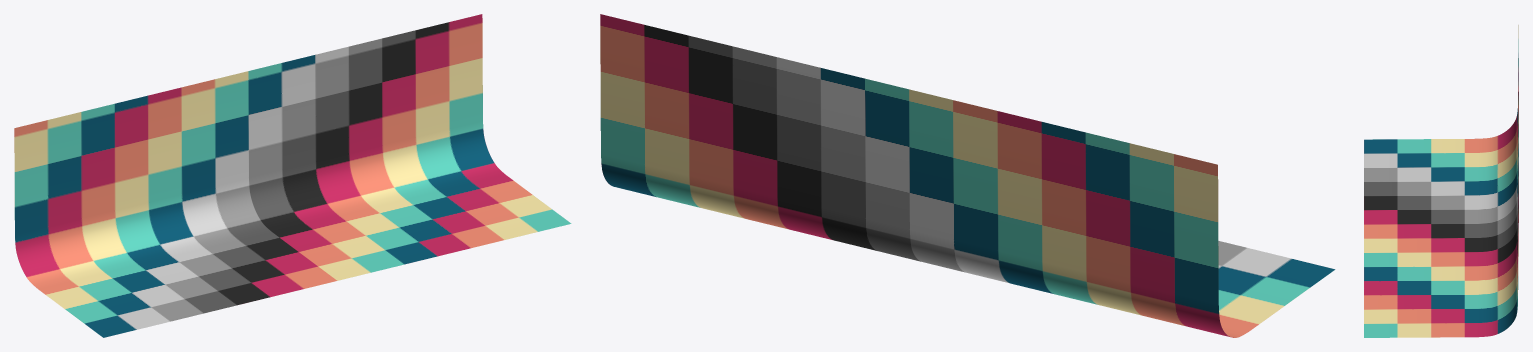
Rendered from backdrop.gltf.
3 views of the same model, side by side, from view 1: azimuth 30°, elevation 25°; view 2: azimuth 150°, elevation 25°; view 3: azimuth 270°, elevation 25° (orthographic). The views are drawn at different scales.
Visible parts, largest first — view 1: backdrop; view 2: backdrop; view 3: backdrop.
Part boxes in pixels (x1,y1,x2,y2): backdrop: [14, 14, 571, 337]; backdrop: [600, 14, 1335, 337]; backdrop: [1364, 25, 1518, 337].
Bounding box in the file's own units: 429 × 127 × 142.
Materials: 1 (1 with a texture image).
